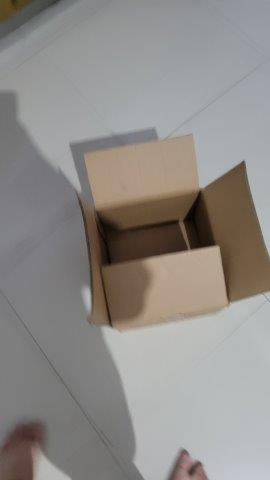kardus: (75, 133, 270, 330)
